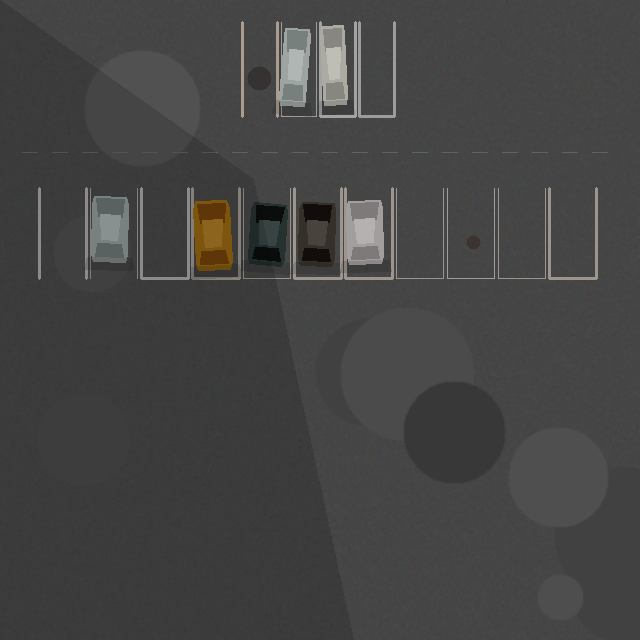space-empty: (39, 188, 86, 278), (141, 188, 188, 278), (396, 188, 443, 278), (447, 188, 494, 278), (498, 188, 545, 278), (549, 188, 596, 278), (242, 22, 277, 116), (359, 22, 394, 116)
space-occupied: (90, 188, 137, 278), (192, 188, 239, 278), (243, 188, 290, 278), (294, 188, 341, 278), (345, 188, 392, 278), (281, 22, 316, 116), (320, 22, 355, 116)
